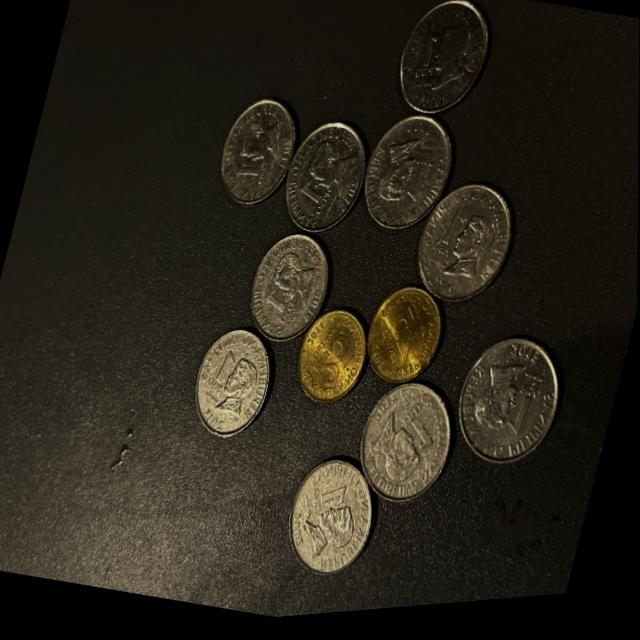1_Old_Front: (400, 176, 525, 317), (459, 341, 568, 477), (356, 119, 458, 241), (392, 0, 489, 125), (282, 459, 379, 584), (190, 324, 284, 448), (273, 121, 367, 243), (358, 397, 453, 501), (223, 102, 307, 219), (241, 222, 324, 337)
25Cent_Old_Front: (290, 298, 374, 419), (353, 287, 442, 399)
